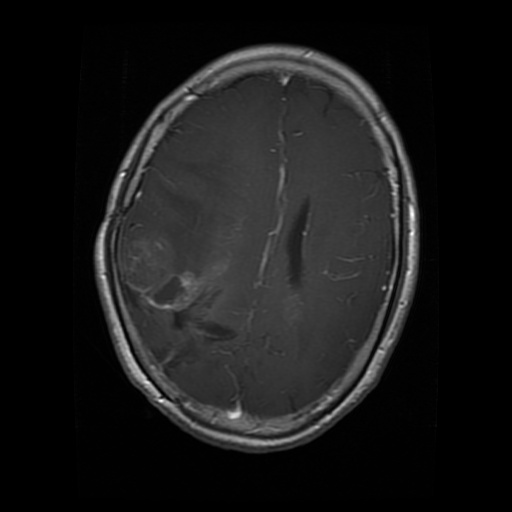glioma: (119, 223, 240, 341)
